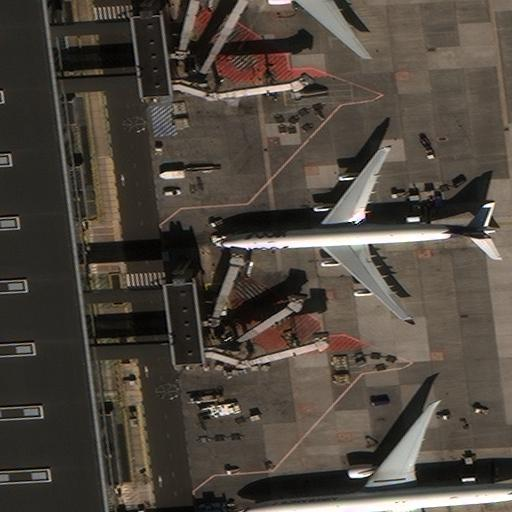Large Civil Transport: (216, 147, 495, 320), (237, 404, 512, 511), (224, 0, 419, 59)
